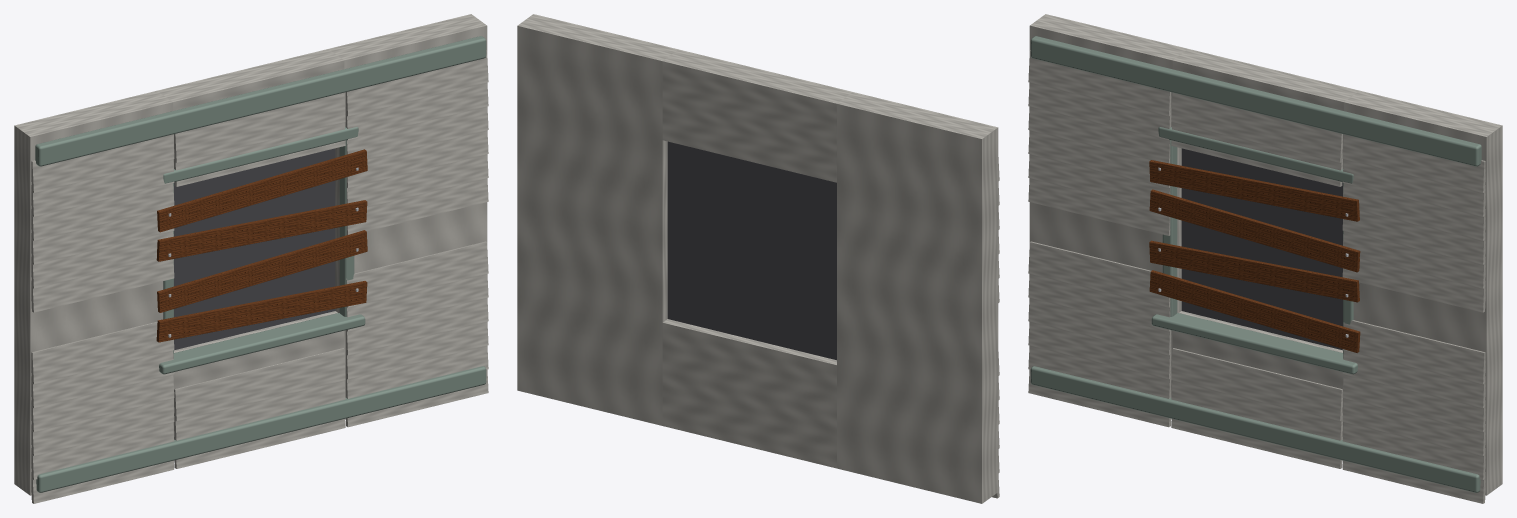
File: halloween-slasher-street-boarded-window-bay-91cb6525__27263.glb
3 views of the same model, side by side, from view 1: azimuth 30°, elevation 25°; view 2: azimuth 150°, elevation 25°; view 3: azimuth 330°, elevation 25° (orthographic).
Parts seen in each view (by area): view 1: boarded-window-bay; view 2: boarded-window-bay; view 3: boarded-window-bay.
Boxes of the visible parts, x1=… form: boarded-window-bay: x1=14, y1=14, x2=488, y2=503; boarded-window-bay: x1=517, y1=14, x2=999, y2=503; boarded-window-bay: x1=1028, y1=14, x2=1502, y2=503.
Bounding box in the file's own units: 4 × 3.06 × 0.33.
5 materials, 2 textured.
